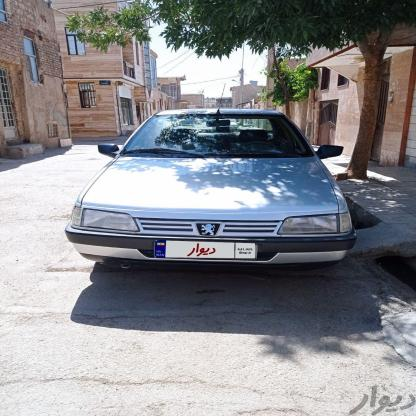Car: (60, 110, 353, 270)
